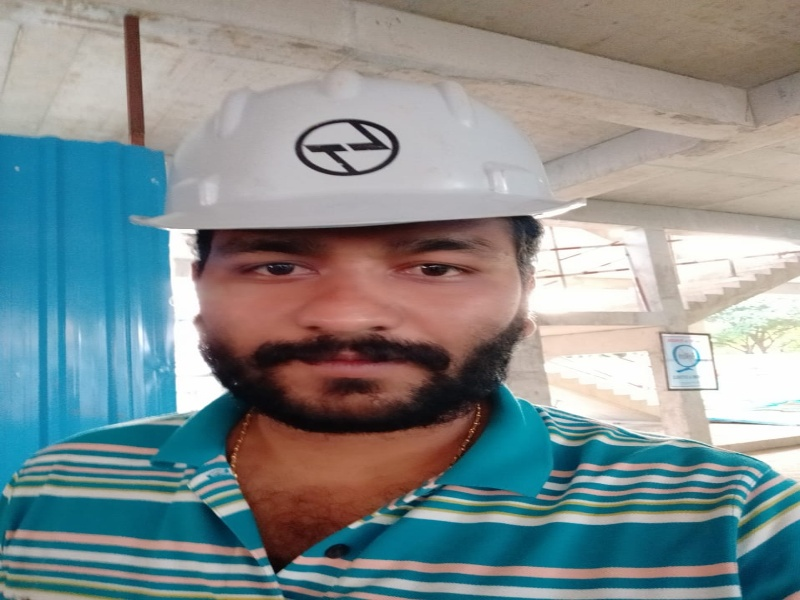Face: (133, 67, 578, 224)
